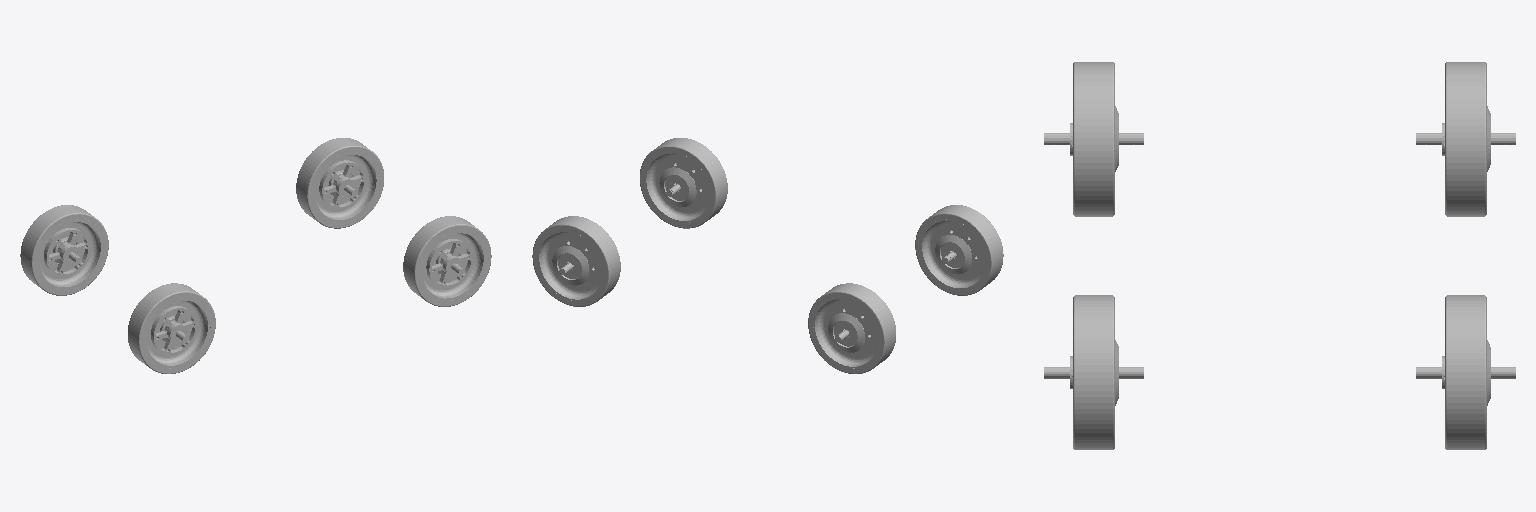
URDF robot description (swerve_drive):
<?xml version="1.0" encoding="utf-8"?>
<!-- This URDF was automatically created by SolidWorks to URDF Exporter! Originally created by [author] ([email redacted]) 
     Commit Version: 1.5.1-0-g916b5db  Build Version: 1.5.7152.31018
     For more information, please see http://wiki.ros.org/sw_urdf_exporter -->
<robot
  name="swerve_drive">
  <link
    name="base_link">
    <inertial>
      <origin
        xyz="-0.073441 0.0048344 0.14539"
        rpy="0 0 0" />
      <mass
        value="9.9142" />
      <inertia
        ixx="0.21521"
        ixy="-0.001446"
        ixz="-0.00010869"
        iyy="0.11841"
        iyz="5.4379E-05"
        izz="0.31271" />
    </inertial>
    <visual>
      <origin
        xyz="0 0 0"
        rpy="0 0 0" />
      <geometry>
        <mesh
          filename="package://swerve_drive_description/meshes/base_link.STL" />
      </geometry>
      <material
        name="">
        <color
          rgba="0.75294 0.75294 0.75294 1" />
      </material>
    </visual>
    <collision>
      <origin
        xyz="0 0 0"
        rpy="0 0 0" />
      <geometry>
        <mesh
          filename="package://swerve_drive_description/meshes/base_link.STL" />
      </geometry>
    </collision>
  </link>
  <link
    name="lf_swerve_link">
    <inertial>
      <origin
        xyz="-6.5343E-06 0.003953 -0.024575"
        rpy="0 0 0" />
      <mass
        value="0.23291" />
      <inertia
        ixx="0.00017789"
        ixy="3.1284E-09"
        ixz="9.3072E-09"
        iyy="0.00031161"
        iyz="2.3005E-08"
        izz="0.00028635" />
    </inertial>
    <visual>
      <origin
        xyz="0 0 0"
        rpy="0 0 0" />
      <geometry>
        <mesh
          filename="package://swerve_drive_description/meshes/swerve_link.STL" />
      </geometry>
      <material
        name="">
        <color
          rgba="0.75294 0.75294 0.75294 1" />
      </material>
    </visual>
    <collision>
      <origin
        xyz="0 0 0"
        rpy="0 0 0" />
      <geometry>
        <mesh
          filename="package://swerve_drive_description/meshes/swerve_link.STL" />
      </geometry>
    </collision>
  </link>
  <joint
    name="lf_swerve_joint"
    type="continuous">
    <origin
      xyz="0.24858 0.17929 0.096509"
      rpy="0 0 0" />
    <parent
      link="base_link" />
    <child
      link="lf_swerve_link" />
    <axis
      xyz="0 0 1" />
  </joint>
  <link
    name="lf_wheel_link">
    <inertial>
      <origin
        xyz="-1.1437E-05 -4.8244E-06 -7.4559E-06"
        rpy="0 0 0" />
      <mass
        value="0.39722" />
      <inertia
        ixx="0.00072419"
        ixy="-2.8256E-08"
        ixz="2.0907E-08"
        iyy="0.0013599"
        iyz="-1.7286E-08"
        izz="0.00072418" />
    </inertial>
    <visual>
      <origin
        xyz="0 0 0"
        rpy="0 0 0" />
      <geometry>
        <mesh
          filename="package://swerve_drive_description/meshes/wheel_link.STL" />
      </geometry>
      <material
        name="">
        <color
          rgba="0.75294 0.75294 0.75294 1" />
      </material>
    </visual>
    <collision>
      <origin
        xyz="0 0 0"
        rpy="0 0 0" />
      <geometry>
        <mesh
          filename="package://swerve_drive_description/meshes/wheel_link.STL" />
      </geometry>
    </collision>
  </link>
  <joint
    name="lf_wheel_joint"
    type="continuous">
    <origin
      xyz="0 0.00047482 -0.07"
      rpy="0 0 0" />
    <parent
      link="lf_swerve_link" />
    <child
      link="lf_wheel_link" />
    <axis
      xyz="0 -1 0" />
  </joint>
  <link
    name="rf_swerve_link">
    <inertial>
      <origin
        xyz="-6.5343E-06 0.003953 -0.024575"
        rpy="0 0 0" />
      <mass
        value="0.23291" />
      <inertia
        ixx="0.00017789"
        ixy="3.1284E-09"
        ixz="9.3072E-09"
        iyy="0.00031161"
        iyz="2.3005E-08"
        izz="0.00028635" />
    </inertial>
    <visual>
      <origin
        xyz="0 0 0"
        rpy="0 0 0" />
      <geometry>
        <mesh
          filename="package://swerve_drive_description/meshes/swerve_link.STL" />
      </geometry>
      <material
        name="">
        <color
          rgba="0.75294 0.75294 0.75294 1" />
      </material>
    </visual>
    <collision>
      <origin
        xyz="0 0 0"
        rpy="0 0 0" />
      <geometry>
        <mesh
          filename="package://swerve_drive_description/meshes/swerve_link.STL" />
      </geometry>
    </collision>
  </link>
  <joint
    name="rf_swerve_joint"
    type="continuous">
    <origin
      xyz="0.24858 -0.18071 0.096509"
      rpy="0 0 0" />
    <parent
      link="base_link" />
    <child
      link="rf_swerve_link" />
    <axis
      xyz="0 0 1" />
  </joint>
  <link
    name="rf_wheel_link">
    <inertial>
      <origin
        xyz="-1.1437E-05 -4.8244E-06 -7.4559E-06"
        rpy="0 0 0" />
      <mass
        value="0.39722" />
      <inertia
        ixx="0.00072419"
        ixy="-2.8256E-08"
        ixz="2.0907E-08"
        iyy="0.0013599"
        iyz="-1.7286E-08"
        izz="0.00072418" />
    </inertial>
    <visual>
      <origin
        xyz="0 0 0"
        rpy="0 0 0" />
      <geometry>
        <mesh
          filename="package://swerve_drive_description/meshes/wheel_link.STL" />
      </geometry>
      <material
        name="">
        <color
          rgba="0.75294 0.75294 0.75294 1" />
      </material>
    </visual>
    <collision>
      <origin
        xyz="0 0 0"
        rpy="0 0 0" />
      <geometry>
        <mesh
          filename="package://swerve_drive_description/meshes/wheel_link.STL" />
      </geometry>
    </collision>
  </link>
  <joint
    name="rf_wheel_joint"
    type="continuous">
    <origin
      xyz="0 0.00047482 -0.07"
      rpy="0 0 0" />
    <parent
      link="rf_swerve_link" />
    <child
      link="rf_wheel_link" />
    <axis
      xyz="0 -1 0" />
  </joint>
  <link
    name="rr_swerve_link">
    <inertial>
      <origin
        xyz="-6.5343E-06 0.003953 -0.024575"
        rpy="0 0 0" />
      <mass
        value="0.23291" />
      <inertia
        ixx="0.00017789"
        ixy="3.1284E-09"
        ixz="9.3072E-09"
        iyy="0.00031161"
        iyz="2.3005E-08"
        izz="0.00028635" />
    </inertial>
    <visual>
      <origin
        xyz="0 0 0"
        rpy="0 0 0" />
      <geometry>
        <mesh
          filename="package://swerve_drive_description/meshes/swerve_link.STL" />
      </geometry>
      <material
        name="">
        <color
          rgba="0.75294 0.75294 0.75294 1" />
      </material>
    </visual>
    <collision>
      <origin
        xyz="0 0 0"
        rpy="0 0 0" />
      <geometry>
        <mesh
          filename="package://swerve_drive_description/meshes/swerve_link.STL" />
      </geometry>
    </collision>
  </link>
  <joint
    name="rr_swerve_joint"
    type="continuous">
    <origin
      xyz="-0.28642 -0.18071 0.096509"
      rpy="0 0 0" />
    <parent
      link="base_link" />
    <child
      link="rr_swerve_link" />
    <axis
      xyz="0 0 1" />
  </joint>
  <link
    name="rr_wheel_link">
    <inertial>
      <origin
        xyz="-1.1437E-05 -4.8244E-06 -7.4559E-06"
        rpy="0 0 0" />
      <mass
        value="0.39722" />
      <inertia
        ixx="0.00072419"
        ixy="-2.8256E-08"
        ixz="2.0907E-08"
        iyy="0.0013599"
        iyz="-1.7286E-08"
        izz="0.00072418" />
    </inertial>
    <visual>
      <origin
        xyz="0 0 0"
        rpy="0 0 0" />
      <geometry>
        <mesh
          filename="package://swerve_drive_description/meshes/wheel_link.STL" />
      </geometry>
      <material
        name="">
        <color
          rgba="0.75294 0.75294 0.75294 1" />
      </material>
    </visual>
    <collision>
      <origin
        xyz="0 0 0"
        rpy="0 0 0" />
      <geometry>
        <mesh
          filename="package://swerve_drive_description/meshes/wheel_link.STL" />
      </geometry>
    </collision>
  </link>
  <joint
    name="rr_wheel_joint"
    type="continuous">
    <origin
      xyz="0 0.00047482 -0.07"
      rpy="0 0 0" />
    <parent
      link="rr_swerve_link" />
    <child
      link="rr_wheel_link" />
    <axis
      xyz="0 -1 0" />
  </joint>
  <link
    name="lr_swerve_link">
    <inertial>
      <origin
        xyz="-6.5343E-06 0.003953 -0.024575"
        rpy="0 0 0" />
      <mass
        value="0.23291" />
      <inertia
        ixx="0.00017789"
        ixy="3.1284E-09"
        ixz="9.3072E-09"
        iyy="0.00031161"
        iyz="2.3005E-08"
        izz="0.00028635" />
    </inertial>
    <visual>
      <origin
        xyz="0 0 0"
        rpy="0 0 0" />
      <geometry>
        <mesh
          filename="package://swerve_drive_description/meshes/swerve_link.STL" />
      </geometry>
      <material
        name="">
        <color
          rgba="0.75294 0.75294 0.75294 1" />
      </material>
    </visual>
    <collision>
      <origin
        xyz="0 0 0"
        rpy="0 0 0" />
      <geometry>
        <mesh
          filename="package://swerve_drive_description/meshes/swerve_link.STL" />
      </geometry>
    </collision>
  </link>
  <joint
    name="lr_swerve_joint"
    type="continuous">
    <origin
      xyz="-0.28642 0.17929 0.096509"
      rpy="0 0 0" />
    <parent
      link="base_link" />
    <child
      link="lr_swerve_link" />
    <axis
      xyz="0 0 1" />
  </joint>
  <link
    name="lr_wheel_link">
    <inertial>
      <origin
        xyz="-1.1437E-05 -4.8244E-06 -7.4559E-06"
        rpy="0 0 0" />
      <mass
        value="0.39722" />
      <inertia
        ixx="0.00072419"
        ixy="-2.8256E-08"
        ixz="2.0907E-08"
        iyy="0.0013599"
        iyz="-1.7286E-08"
        izz="0.00072418" />
    </inertial>
    <visual>
      <origin
        xyz="0 0 0"
        rpy="0 0 0" />
      <geometry>
        <mesh
          filename="package://swerve_drive_description/meshes/wheel_link.STL" />
      </geometry>
      <material
        name="">
        <color
          rgba="0.75294 0.75294 0.75294 1" />
      </material>
    </visual>
    <collision>
      <origin
        xyz="0 0 0"
        rpy="0 0 0" />
      <geometry>
        <mesh
          filename="package://swerve_drive_description/meshes/wheel_link.STL" />
      </geometry>
    </collision>
  </link>
  <joint
    name="lr_wheel_joint"
    type="continuous">
    <origin
      xyz="0 0.00047482 -0.07"
      rpy="0 0 0" />
    <parent
      link="lr_swerve_link" />
    <child
      link="lr_wheel_link" />
    <axis
      xyz="0 -1 0" />
  </joint>
</robot>

--- Render facts (derived) ---
3 views of the same robot in one strip: view 1: azimuth 30°, elevation 25°; view 2: azimuth 150°, elevation 25°; view 3: azimuth 270°, elevation 25° (orthographic).
Model swerve_drive with 9 links and 8 joints (8 continuous), rooted at base_link, posed every joint at zero.
Links seen in each view (by area): view 1: rf_wheel_link, lr_wheel_link, lf_wheel_link, rr_wheel_link; view 2: lf_wheel_link, rr_wheel_link, rf_wheel_link, lr_wheel_link; view 3: rf_wheel_link, rr_wheel_link, lf_wheel_link, lr_wheel_link.
Boxes of the visible links, x1,y1,x2,y2 form: rf_wheel_link: (403,216,491,306); lr_wheel_link: (20,205,108,295); lf_wheel_link: (296,138,383,228); rr_wheel_link: (128,283,215,373); lf_wheel_link: (532,216,620,306); rr_wheel_link: (915,205,1003,295); rf_wheel_link: (640,138,727,228); lr_wheel_link: (808,283,895,373); rf_wheel_link: (1044,295,1143,449); rr_wheel_link: (1044,62,1143,216); lf_wheel_link: (1416,295,1515,449); lr_wheel_link: (1416,62,1515,216).
Bounding box of the posed robot: 0.6849 × 0.456 × 0.1499 m (x, y, z).
Meshes: 3 distinct files referenced, 4 mesh visuals loaded (1 binary STL); not drawn: 5 (reference not matched to a file when rendering).